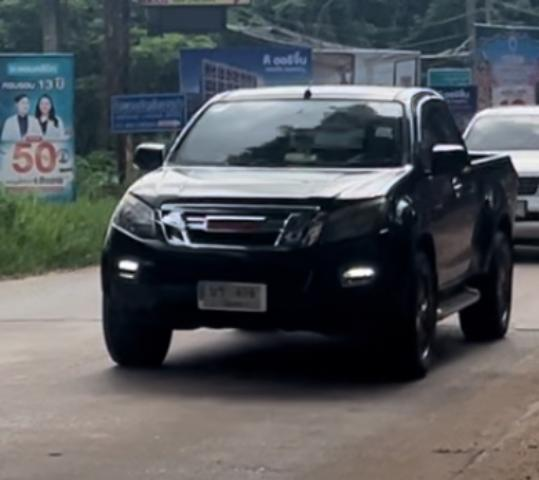pickup-truck: (94, 80, 525, 388)
